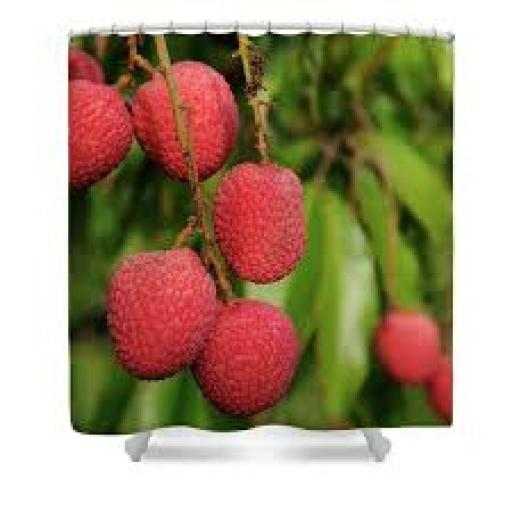lychee: (107, 249, 216, 380), (194, 301, 300, 416), (214, 164, 304, 282), (171, 62, 238, 179), (69, 80, 131, 188), (376, 310, 439, 384), (428, 355, 452, 423), (69, 48, 104, 84)
